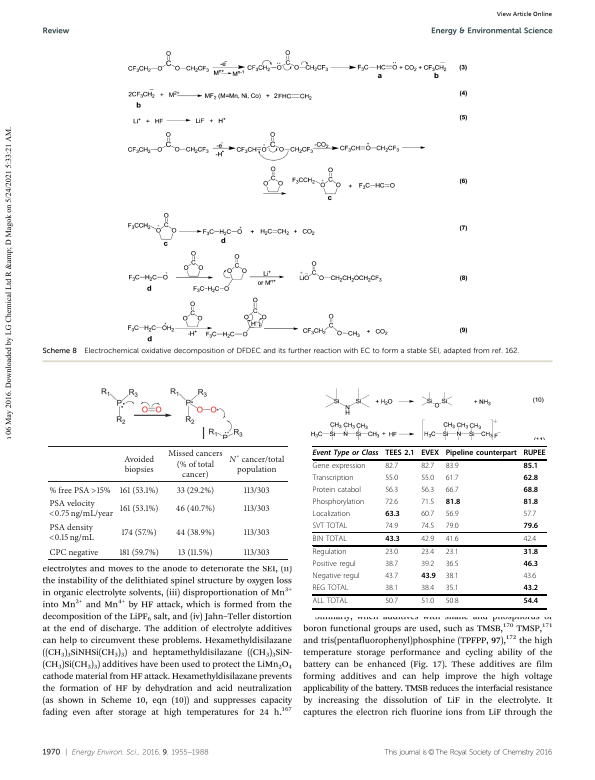borderless: (311, 445, 546, 608), (46, 444, 288, 559)
cell: (167, 449, 224, 480), (48, 498, 114, 521), (228, 450, 285, 475), (48, 522, 95, 545), (48, 481, 112, 497), (123, 454, 155, 475), (445, 449, 518, 458), (312, 449, 379, 458), (48, 547, 99, 558), (312, 462, 366, 472), (312, 498, 365, 508), (312, 486, 362, 496), (312, 572, 361, 582), (118, 547, 160, 558), (175, 503, 216, 514), (175, 527, 216, 538), (312, 560, 357, 570), (119, 503, 159, 514), (312, 474, 354, 484), (121, 527, 158, 538), (177, 547, 214, 558), (119, 485, 159, 495), (312, 510, 351, 520), (176, 485, 215, 495), (312, 584, 349, 594), (312, 535, 348, 545), (312, 548, 348, 558), (312, 598, 349, 607), (312, 522, 348, 531), (243, 503, 271, 514), (243, 527, 271, 538), (243, 547, 271, 558), (243, 485, 271, 495), (384, 449, 415, 458), (522, 449, 547, 458), (420, 449, 440, 458), (522, 548, 539, 558), (522, 560, 539, 570), (420, 572, 437, 582), (522, 584, 539, 594), (522, 462, 539, 471), (522, 474, 539, 483), (522, 486, 539, 495), (522, 498, 539, 507), (384, 510, 401, 519), (522, 522, 539, 531), (384, 535, 401, 544), (522, 598, 539, 607), (384, 462, 399, 472), (420, 462, 435, 472), (384, 474, 399, 484), (420, 474, 435, 484), (384, 486, 399, 496), (420, 486, 435, 496), (384, 498, 399, 508), (420, 498, 435, 508), (420, 510, 435, 520), (522, 510, 537, 520), (420, 535, 435, 545), (522, 535, 537, 545), (384, 548, 399, 558), (420, 548, 435, 558), (384, 560, 399, 570), (420, 560, 435, 570), (384, 572, 399, 582), (522, 572, 537, 582), (384, 584, 399, 594), (420, 584, 435, 594), (445, 498, 461, 507), (445, 462, 459, 472), (445, 474, 459, 484), (445, 486, 459, 496), (445, 510, 459, 520), (445, 535, 459, 545), (445, 548, 459, 558), (445, 560, 459, 570), (445, 572, 459, 582), (445, 584, 459, 594), (384, 522, 399, 531), (420, 522, 435, 531), (384, 598, 399, 607), (420, 598, 435, 607), (445, 522, 459, 531), (445, 598, 459, 607)
